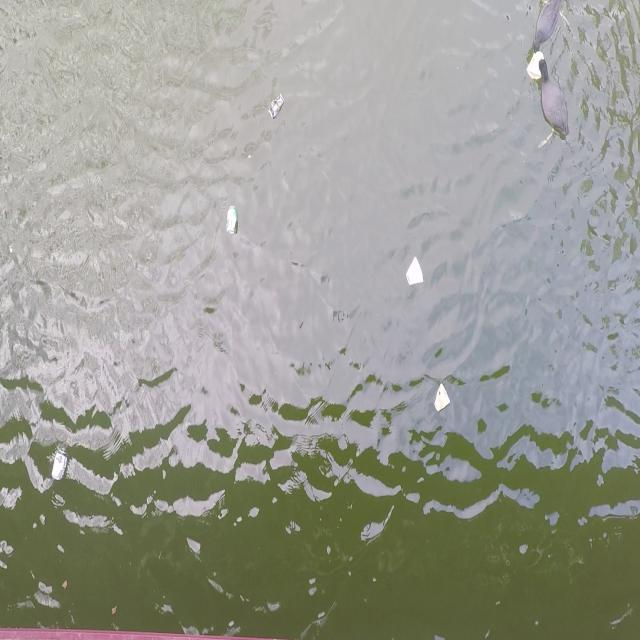Non plastique: (48, 442, 72, 490), (402, 247, 427, 293), (430, 376, 453, 420), (221, 200, 241, 240), (266, 92, 288, 121)
